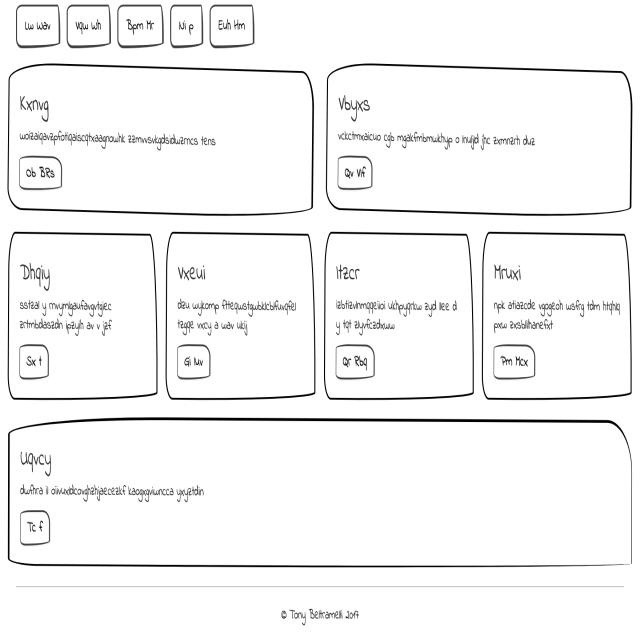Button: (15, 153, 69, 193), (333, 155, 381, 195), (173, 342, 217, 385), (333, 341, 375, 384), (492, 346, 536, 379), (20, 508, 53, 546), (19, 344, 48, 379)
Card: (3, 425, 640, 572), (327, 60, 630, 212), (4, 73, 319, 209), (7, 229, 158, 401), (486, 225, 629, 406), (168, 227, 314, 402), (325, 229, 473, 400)
Footer: (0, 580, 640, 640)
Heading 6: (11, 122, 232, 150), (334, 82, 385, 118), (486, 248, 532, 287), (174, 253, 214, 290), (19, 435, 55, 475), (15, 82, 52, 120), (330, 246, 364, 287), (18, 254, 55, 286)
Navigation Bar: (2, 0, 260, 51)
Paragraph: (169, 291, 305, 338), (326, 292, 461, 338), (337, 121, 552, 146), (492, 296, 618, 336), (19, 476, 220, 501), (19, 297, 118, 335)
